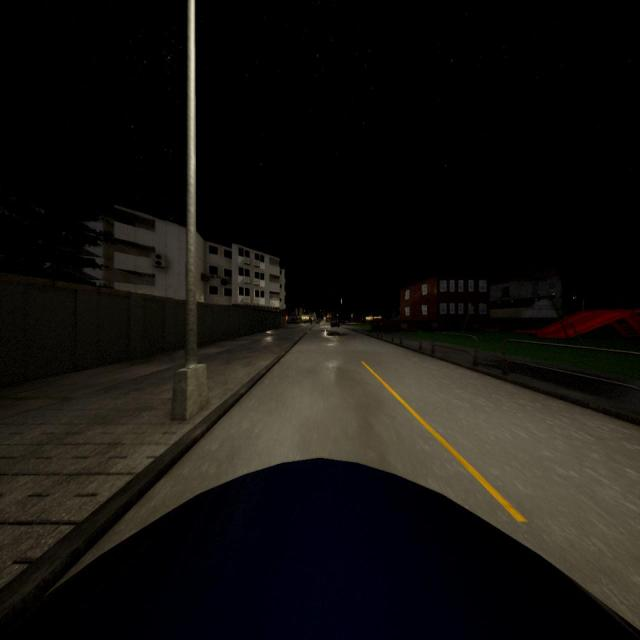Pedestrian: (310, 318, 313, 325)
Vehicle: (0, 455, 640, 640), (330, 319, 340, 328), (286, 318, 300, 324), (315, 319, 320, 324)
